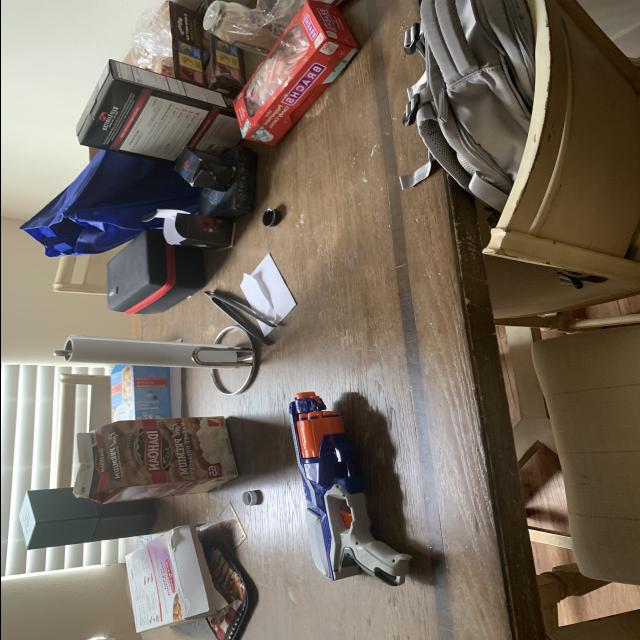nerf-maverik: (272, 385, 427, 596)
